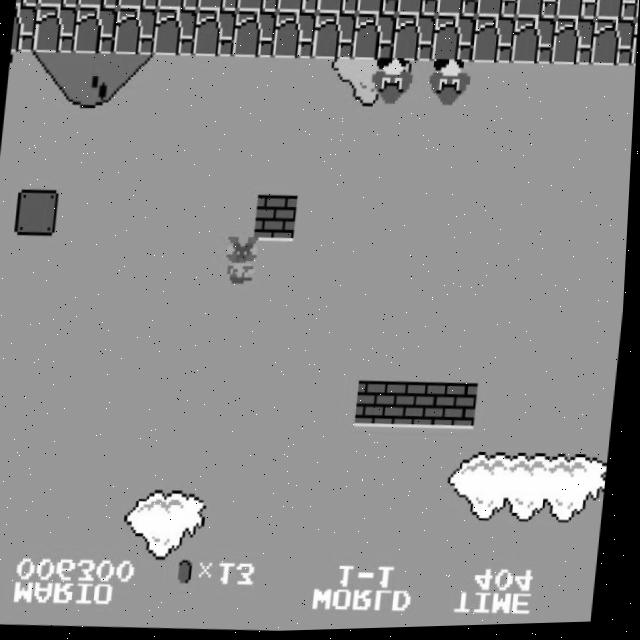1- brick_block: (256, 195, 301, 244), (358, 382, 403, 430), (398, 384, 443, 432), (438, 385, 483, 433)
11- little_mario: (219, 238, 266, 289)
17- undestructible_block: (33, 6, 78, 55), (73, 7, 118, 56), (113, 8, 158, 57), (153, 9, 198, 58), (193, 10, 238, 59), (233, 12, 278, 61), (273, 13, 318, 62), (313, 14, 358, 63), (353, 15, 398, 64), (392, 16, 437, 65), (432, 17, 477, 66), (472, 18, 517, 67), (512, 20, 557, 69), (552, 21, 597, 70), (592, 22, 637, 71), (12, 5, 38, 53), (596, 0, 639, 25), (556, 0, 599, 24), (516, 0, 559, 23), (476, 0, 519, 22), (436, 0, 479, 21), (396, 0, 439, 19), (356, 0, 399, 18), (316, 0, 359, 17), (276, 0, 319, 16), (237, 0, 280, 14), (197, 0, 240, 13), (157, 0, 200, 12), (117, 0, 160, 11), (78, 0, 120, 10), (38, 0, 80, 9), (631, 24, 638, 71), (16, 0, 39, 8)
3- empty_block: (16, 188, 61, 237)
8- goomba: (368, 58, 416, 110), (426, 60, 474, 112)
